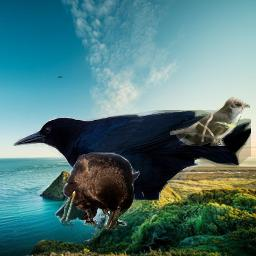Crow: (12, 110, 251, 200), (54, 152, 142, 230)
Cuckoo: (170, 97, 250, 146)
